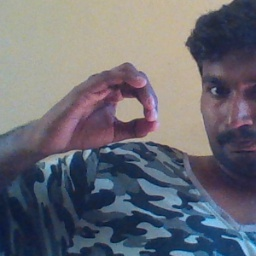O: (35, 57, 161, 155)
